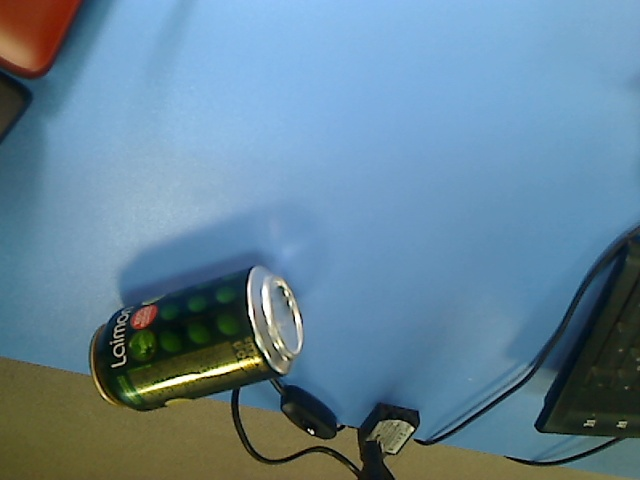can: (87, 262, 305, 414)
